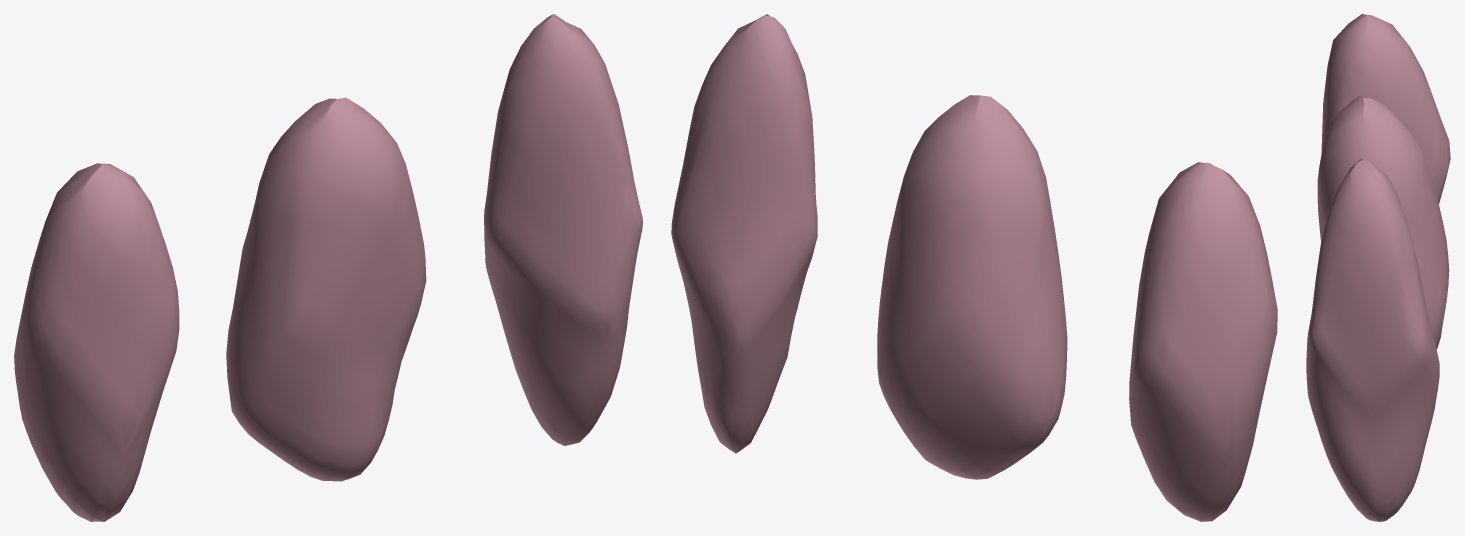
File: Pics.fbx
The picture shows the model from 3 angles, left to right: view 1: azimuth 30°, elevation 25°; view 2: azimuth 150°, elevation 25°; view 3: azimuth 270°, elevation 25°; orthographic projection. The views are drawn at different scales.
Visible parts, largest first — view 1: pic__8_.001, pic__8_.003, pic__8_.002; view 2: pic__8_.001, pic__8_.003, pic__8_.002; view 3: pic__8_.003, pic__8_.001, pic__8_.002.
Boxes of the visible parts, x1,y1,x2,y2 form: pic__8_.001: (226, 97, 426, 481); pic__8_.003: (484, 14, 642, 445); pic__8_.002: (14, 163, 179, 521); pic__8_.001: (877, 95, 1067, 479); pic__8_.003: (671, 14, 817, 453); pic__8_.002: (1129, 162, 1277, 521); pic__8_.003: (1306, 158, 1439, 521); pic__8_.001: (1317, 95, 1449, 349); pic__8_.002: (1321, 14, 1450, 203).
Bounding box in the file's own units: 8.69 × 6.25 × 2.3.
